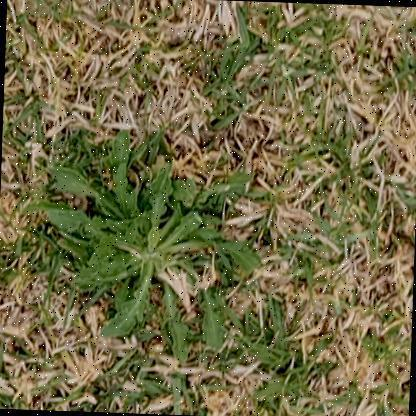Weeds: (15, 128, 263, 365)
